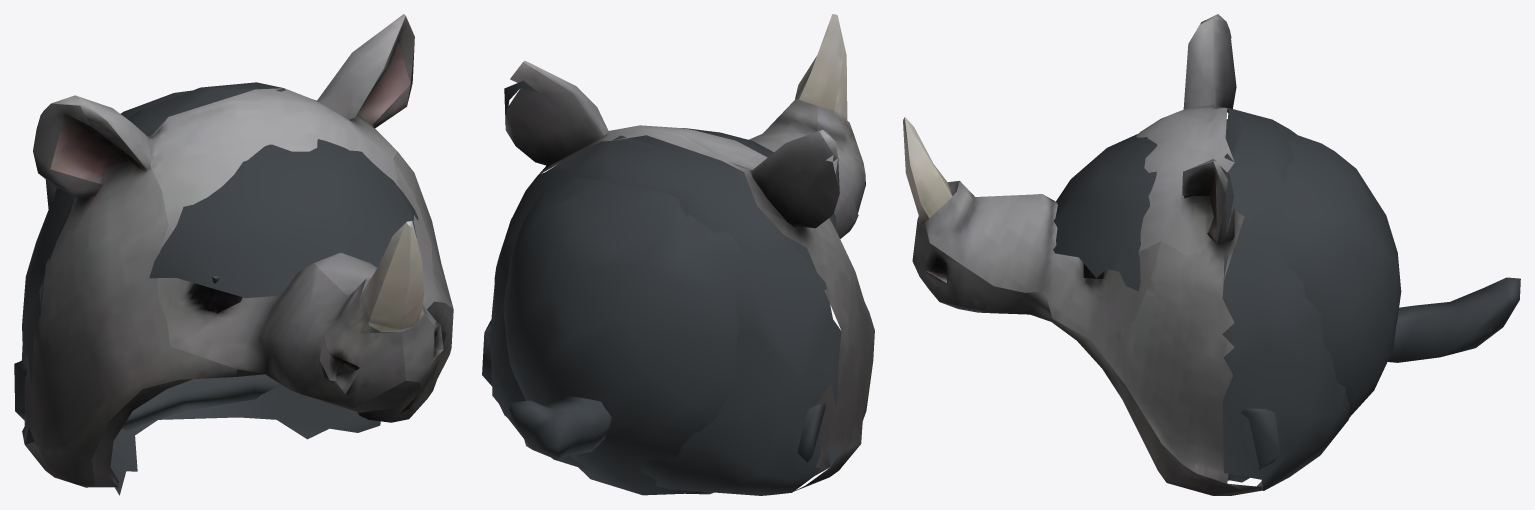
File: rhino.glb
The picture shows the model from 3 angles, left to right: view 1: azimuth 30°, elevation 25°; view 2: azimuth 150°, elevation 25°; view 3: azimuth 270°, elevation 25°; orthographic projection. The views are drawn at different scales.
Visible parts, largest first — view 1: geometry_0, HoodAnatomicalLining; view 2: geometry_0, HoodAnatomicalLining; view 3: geometry_0, HoodAnatomicalLining.
Boxes of the visible parts, <box> form: geometry_0: <box>21,14,453,487</box>; HoodAnatomicalLining: <box>14,90,418,495</box>; geometry_0: <box>490,14,874,495</box>; HoodAnatomicalLining: <box>482,128,836,495</box>; geometry_0: <box>903,14,1520,495</box>; HoodAnatomicalLining: <box>1053,119,1401,482</box>.
Bounding box in the file's own units: 0.4861 × 0.4816 × 0.7515.
Materials: 2 (1 with a texture image).
